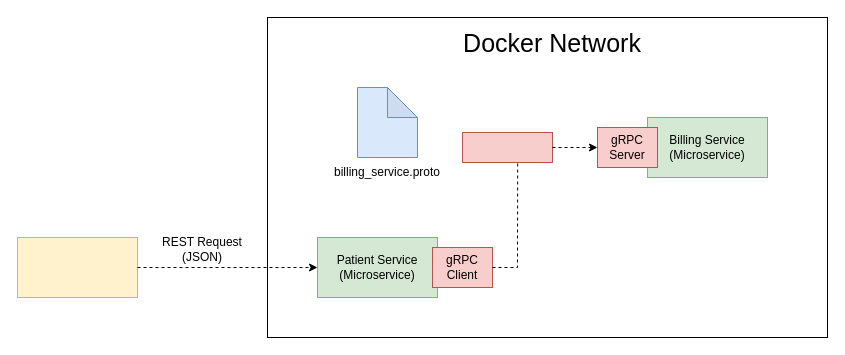
This 845x355 diagram has some shape labels left out. The shapes that lost their labels are listed below. From the top down, each one's centre as x and y in pixels, then its label:
[507,147]: gRPC Request (Protobuf)
[77,267]: Frontend (Client)
